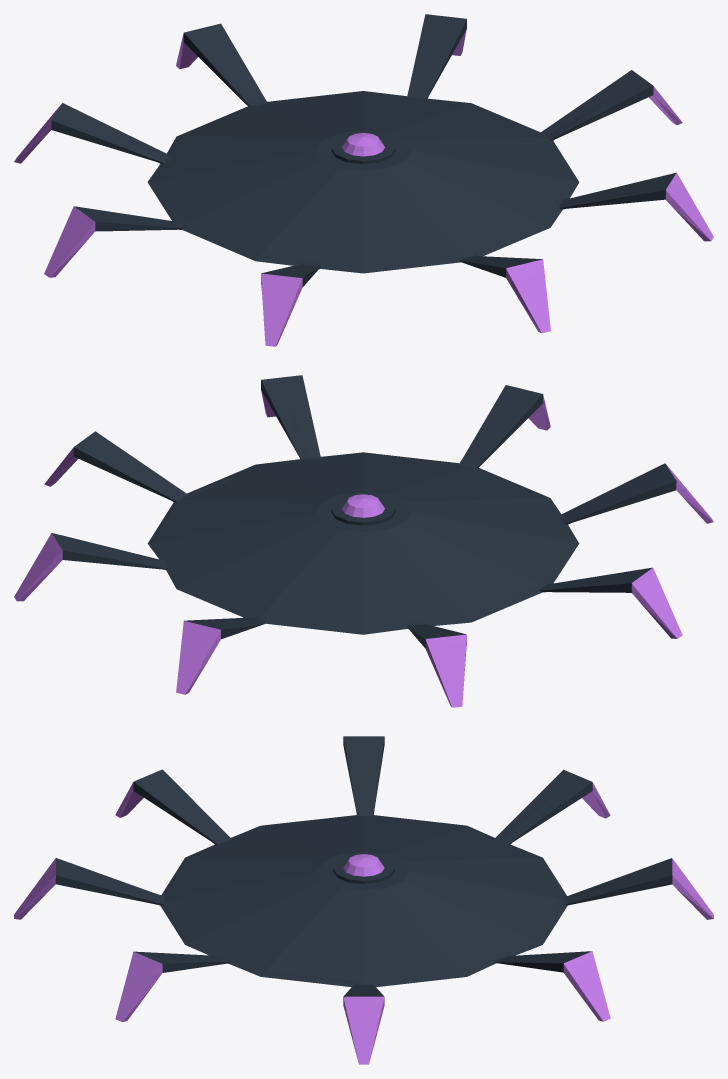
Rendered from Spider_Plant_000011.obj.
3 renders of one model, top to bottom at view 1: azimuth 30°, elevation 25°; view 2: azimuth 150°, elevation 25°; view 3: azimuth 270°, elevation 25°, orthographic. The views are drawn at different scales.
Visible parts, largest first — view 1: Circle_Circle.001; view 2: Circle_Circle.001; view 3: Circle_Circle.001.
Boxes of the visible parts, x1,y1,x2,y2 form: Circle_Circle.001: (14, 14, 713, 346); Circle_Circle.001: (14, 375, 713, 707); Circle_Circle.001: (14, 736, 713, 1064).
Size of the model in its own units: 3.39 by 0.3228 by 3.39.
